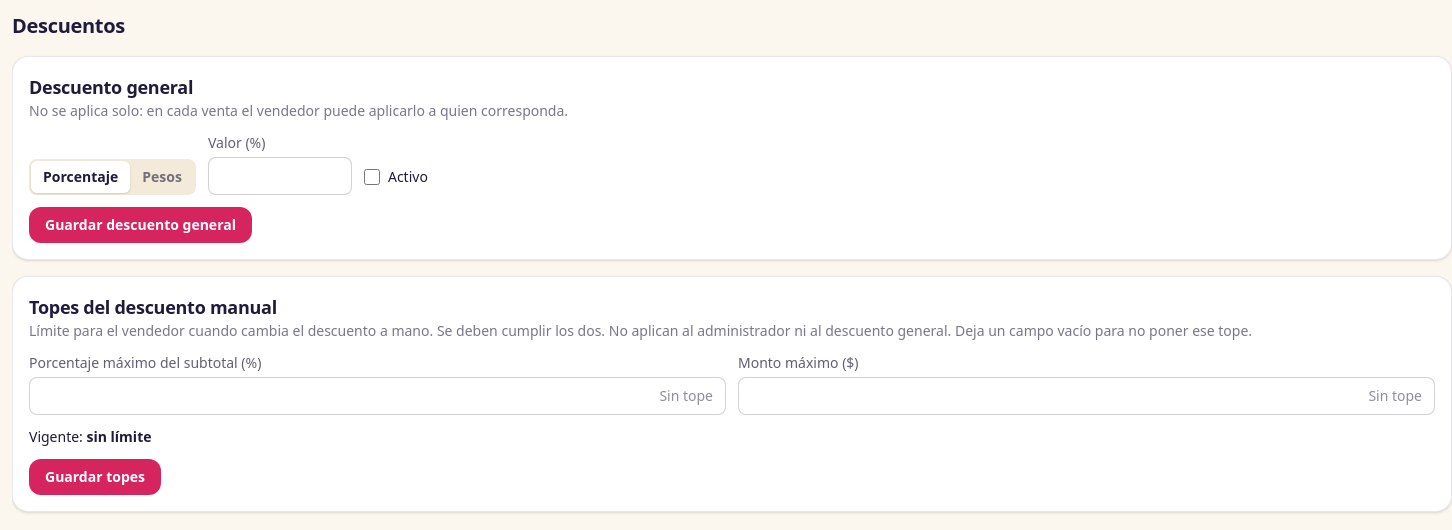
it: Descuentos (administrador) › guarda los topes; un campo vacio queda sin tope
This screenshot has width=1452, height=530.
Expected: the text "sin límite" is shown, [86,427,152,446]
Type "10" into the field labelled "Porcentaje máximo del subtotal (%)".
click(378, 396); type("10")  # box [29,377,726,415]
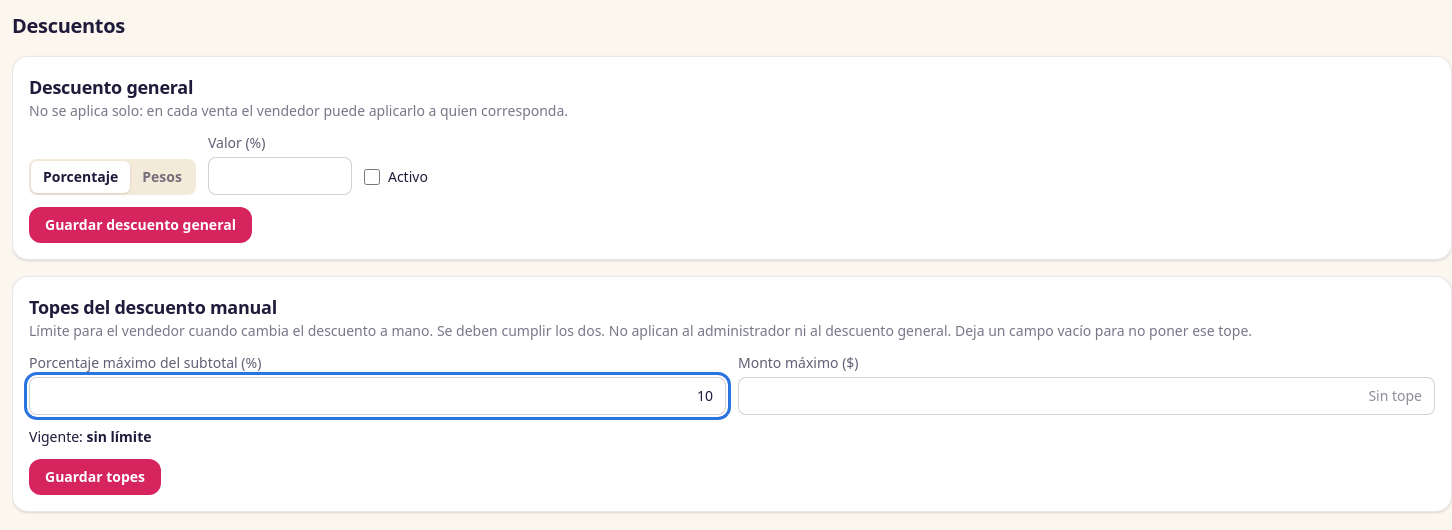
Click the button "Guardar topes".
click(95, 477)  # box [29,459,161,495]
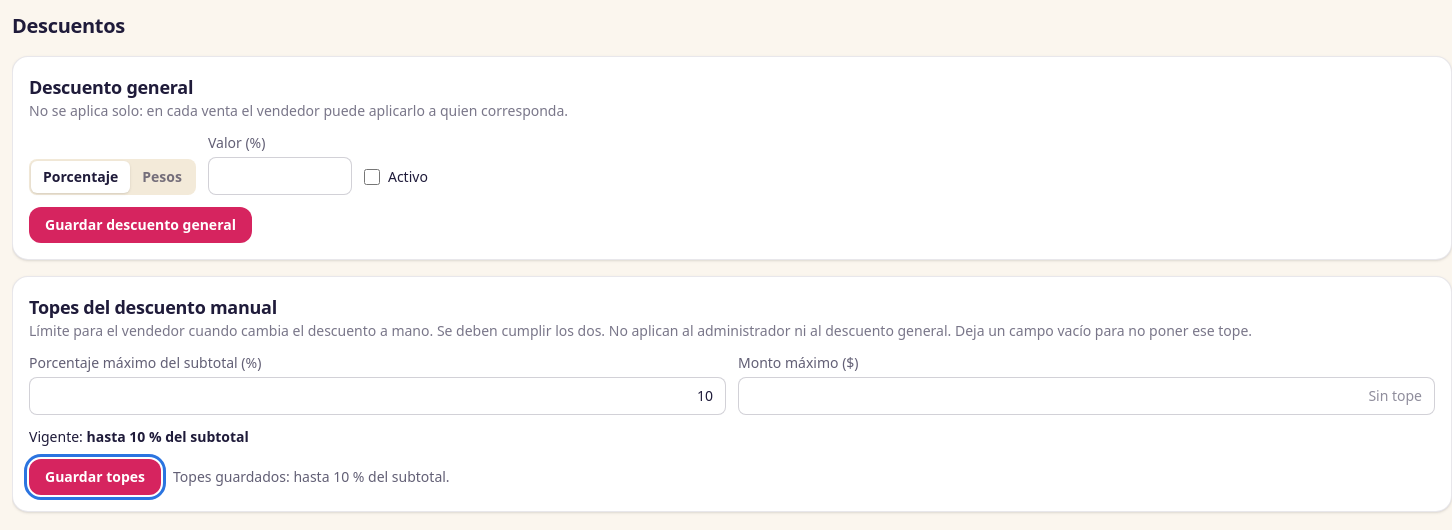
Result: the text "Topes guardados: hasta 10 % del subtotal." is shown at [173,467,450,487]
